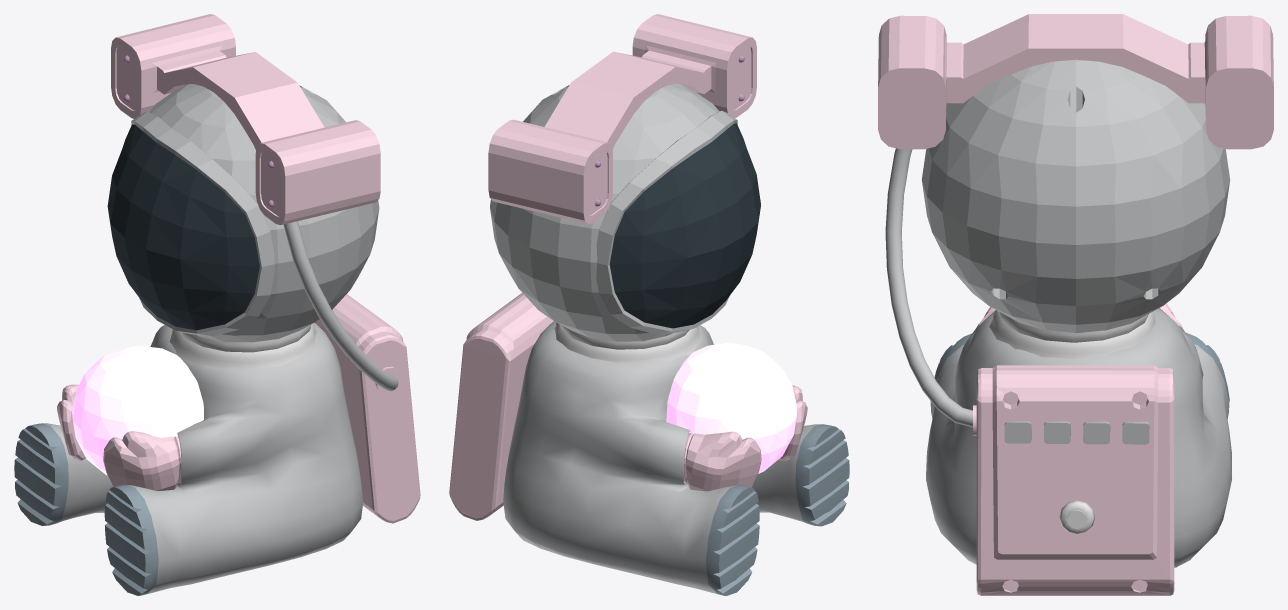
Rendered from astronautlp_v2.glb.
The picture shows the model from 3 angles, left to right: view 1: azimuth 30°, elevation 25°; view 2: azimuth 150°, elevation 25°; view 3: azimuth 270°, elevation 25°; orthographic projection. The views are drawn at different scales.
Parts seen in each view (by area): view 1: Body_low, Glass_low, Headphones1_low, Head_low, Backpack_low, Lune_low, Headphones_low, Arms_low, Collar_low, Wire_low; view 2: Body_low, Glass_low, Head_low, Headphones1_low, Backpack_low, Lune_low, Headphones_low, Arms_low, Collar_low; view 3: Head_low, Backpack_low, Body_low, Headphones1_low, Headphones_low, Wire_low, Collar_low, Buttons_low, button_low.
Part boxes in pixels (x1,y1,x2,y2): Body_low: (14, 322, 363, 595); Glass_low: (107, 111, 274, 336); Headphones1_low: (111, 14, 380, 225); Head_low: (149, 84, 379, 342); Backpack_low: (315, 294, 420, 523); Lune_low: (72, 345, 203, 475); Headphones_low: (151, 45, 324, 150); Arms_low: (57, 384, 181, 490); Collar_low: (170, 323, 316, 369); Wire_low: (283, 221, 398, 391); Body_low: (503, 321, 849, 595); Glass_low: (596, 110, 760, 334); Head_low: (490, 83, 719, 341); Headphones1_low: (488, 14, 756, 224); Backpack_low: (449, 293, 553, 520); Lune_low: (666, 343, 797, 473); Headphones_low: (544, 45, 716, 149); Arms_low: (684, 385, 807, 491); Collar_low: (554, 322, 701, 362); Head_low: (921, 59, 1230, 333); Backpack_low: (976, 365, 1174, 595); Body_low: (926, 308, 1231, 567); Headphones1_low: (878, 15, 1273, 149); Headphones_low: (944, 14, 1207, 107); Wire_low: (885, 148, 972, 427); Collar_low: (989, 310, 1155, 359); Buttons_low: (1004, 421, 1149, 444); button_low: (1059, 500, 1094, 533).
Bounding box in the file's own units: 6.58 × 9.22 × 6.57.
